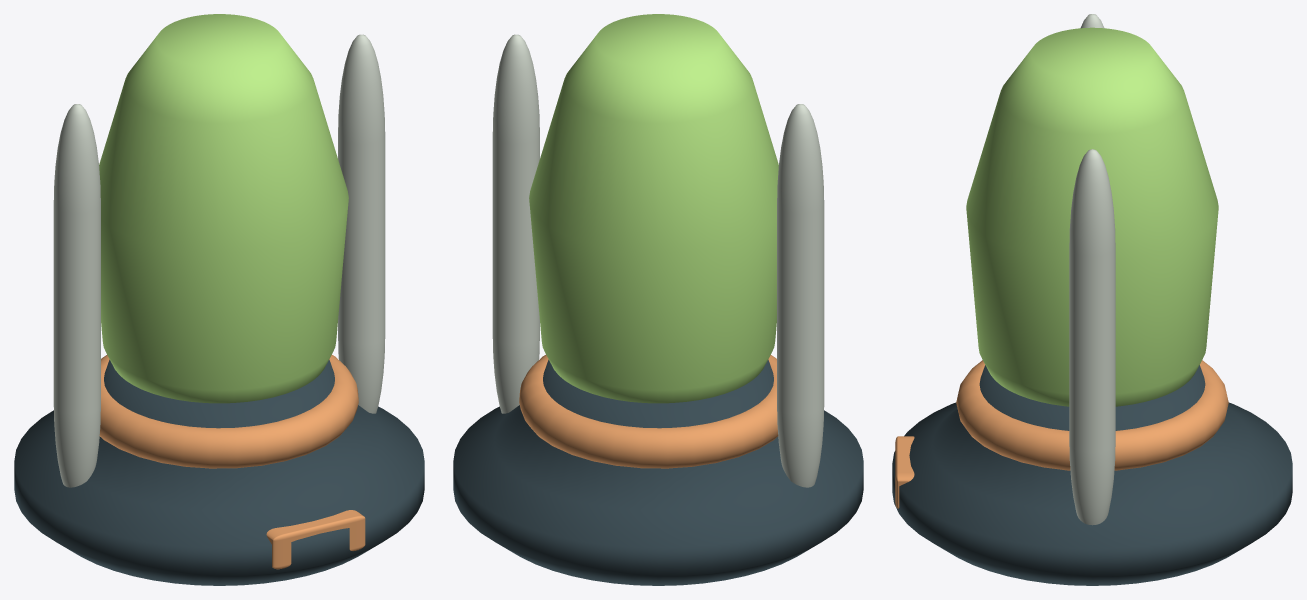
File: beacon.glb
The picture shows the model from 3 angles, left to right: view 1: azimuth 30°, elevation 25°; view 2: azimuth 150°, elevation 25°; view 3: azimuth 270°, elevation 25°; orthographic projection. The views are drawn at different scales.
Visible parts, largest first — view 1: core, housing, brace-l, brace-r, collar, nameplate; view 2: core, housing, brace-l, brace-r, collar; view 3: core, housing, brace-r, collar, nameplate.
Part boxes in pixels (x1=…): core: x1=99, y1=14, x2=348, y2=403; housing: x1=14, y1=359, x2=424, y2=585; brace-l: x1=53, y1=104, x2=100, y2=487; brace-r: x1=338, y1=34, x2=385, y2=413; collar: x1=99, y1=355, x2=358, y2=468; nameplate: x1=266, y1=510, x2=365, y2=569; core: x1=529, y1=14, x2=778, y2=403; housing: x1=453, y1=359, x2=863, y2=585; brace-l: x1=777, y1=104, x2=824, y2=487; brace-r: x1=492, y1=34, x2=539, y2=413; collar: x1=519, y1=355, x2=778, y2=468; core: x1=966, y1=27, x2=1218, y2=406; housing: x1=892, y1=365, x2=1292, y2=585; brace-r: x1=1069, y1=149, x2=1115, y2=525; collar: x1=956, y1=360, x2=1228, y2=470; nameplate: x1=895, y1=436, x2=914, y2=508.
Size of the model in its own units: 1.3 by 1.65 by 1.3.
